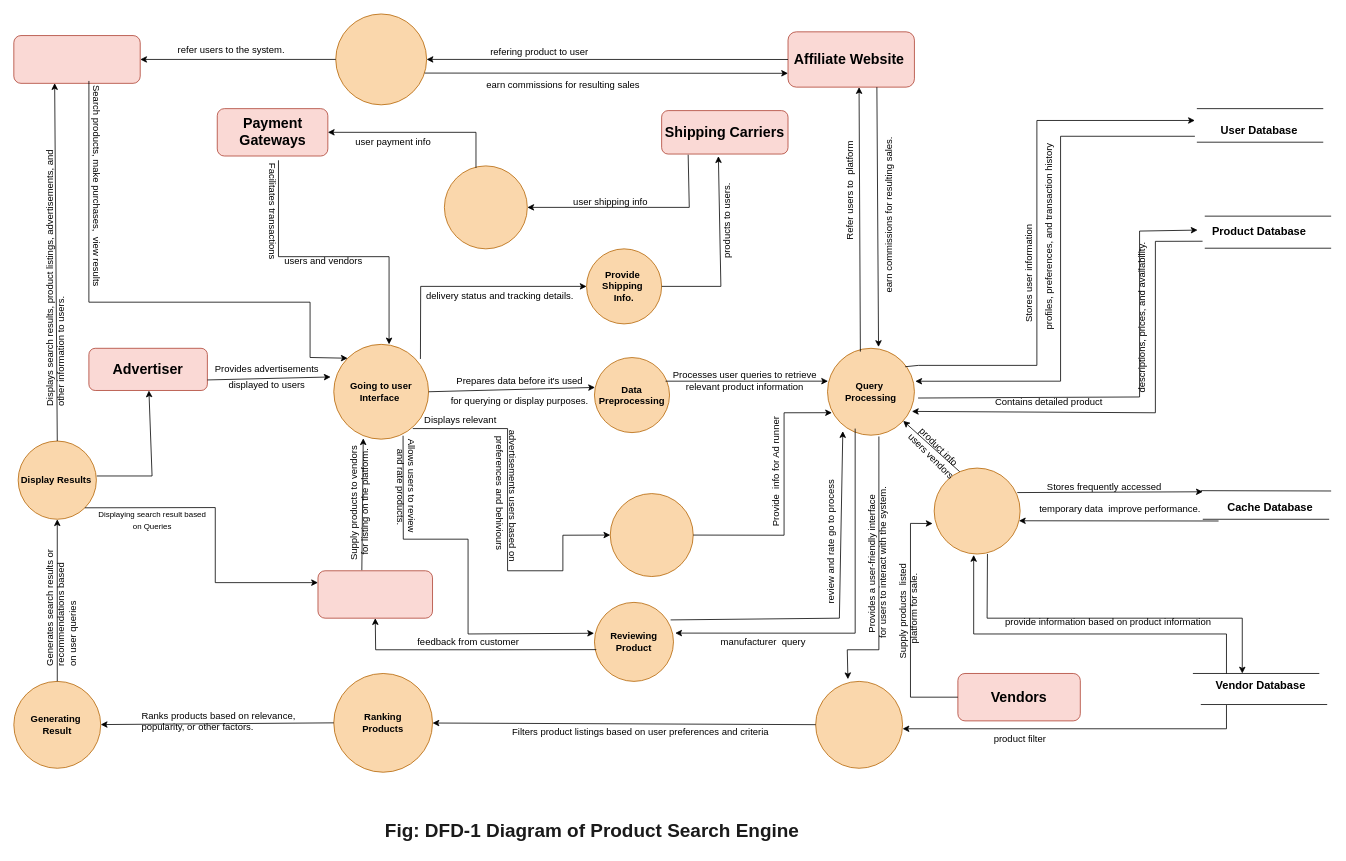
This 1346x861 diagram has some shape labels left out. Here are the shapes that lost their labels. From the top down, the centre of each, then its label:
At (x=76, y=59): "User".
At (x=381, y=59): "Refering".
At (x=485, y=207): "Provide Payment Info.".
At (x=976, y=510): "Supply Product Information".
At (x=651, y=535): "Provide Advertisement Information".
At (x=375, y=594): "Manufacturer".
At (x=859, y=724): "Filtering products".
